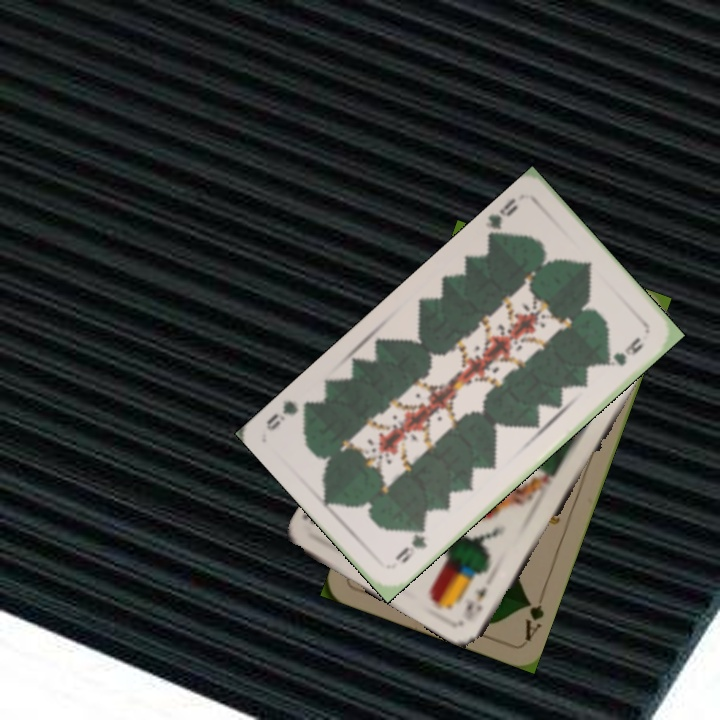EK: (459, 583, 490, 624)
G9: (481, 194, 521, 242), (390, 521, 430, 566)
GA: (520, 595, 547, 644)
